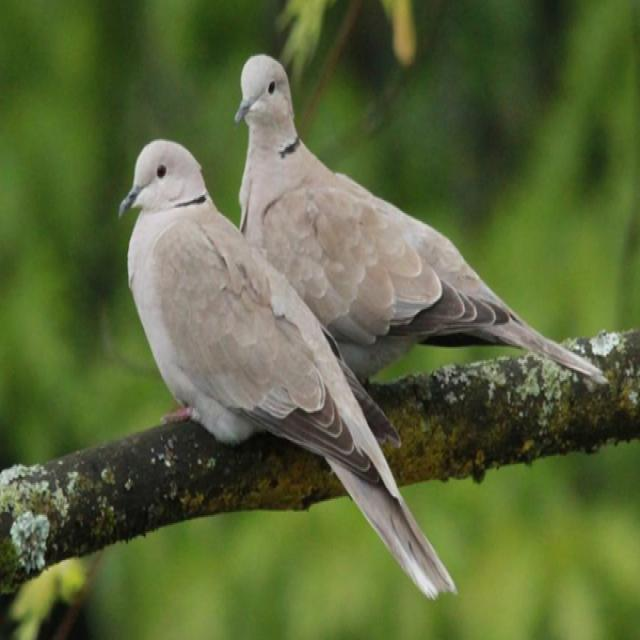pigeon: (104, 124, 446, 586)
